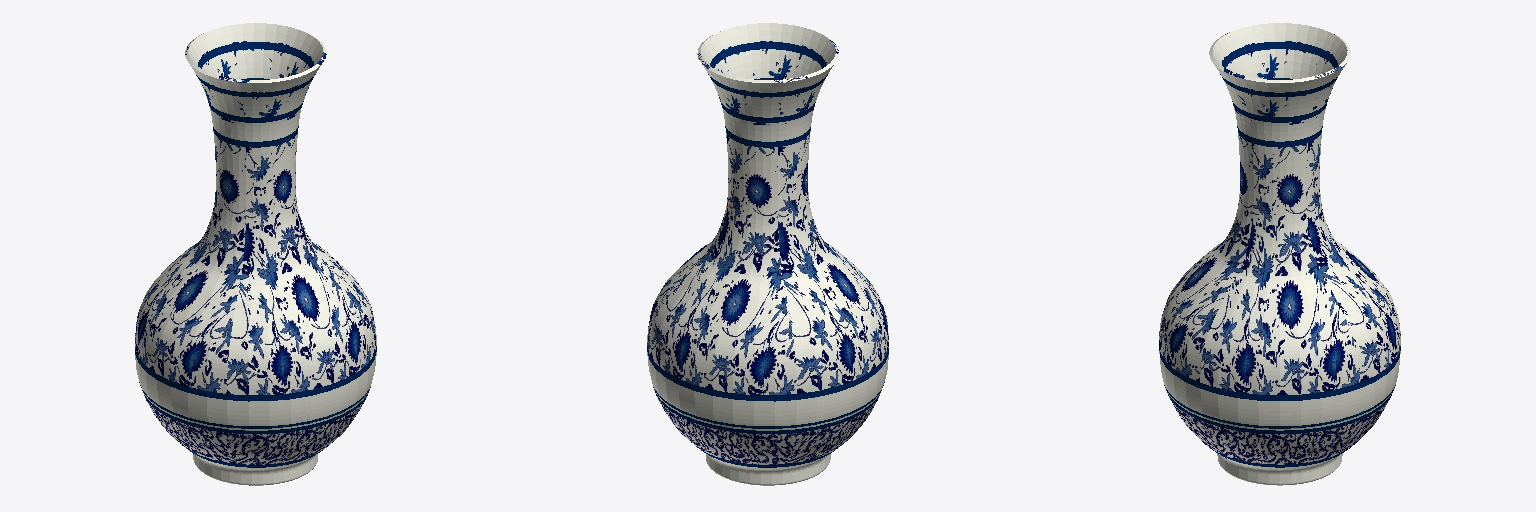
3 views of the same model, side by side, from view 1: azimuth 30°, elevation 25°; view 2: azimuth 150°, elevation 25°; view 3: azimuth 270°, elevation 25° (orthographic).
Parts seen in each view (by area): view 1: model_1; view 2: model_1; view 3: model_1.
Boxes of the visible parts, <box> form: model_1: <box>135,23,376,485</box>; model_1: <box>647,23,888,485</box>; model_1: <box>1159,23,1400,485</box>.
Size of the model in its own units: 120 by 224 by 120.
Materials: 1 (1 with a texture image).